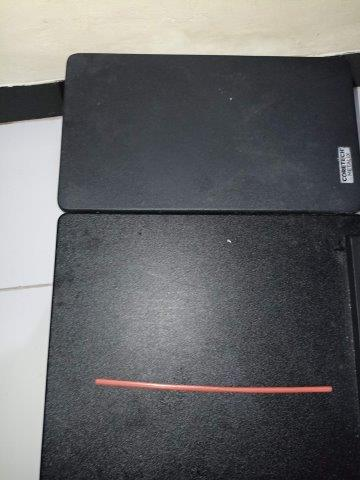sedotan: (95, 378, 332, 394)
